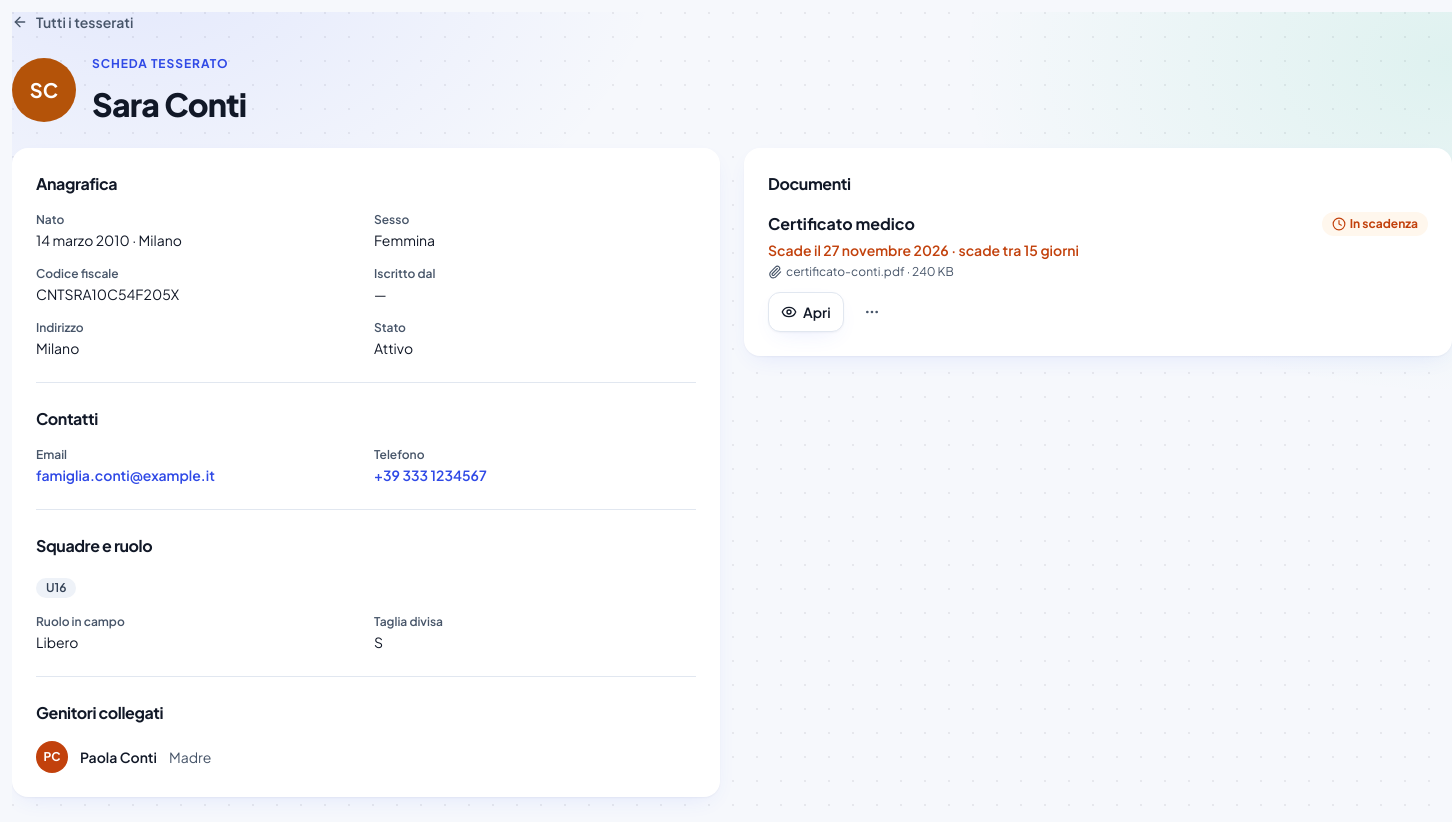
MemberDetailPage › hides every write action from an athlete but still lets them download
Click the button named "Altre azioni di Certificato medico" at (872,312), box [852,292,892,332]
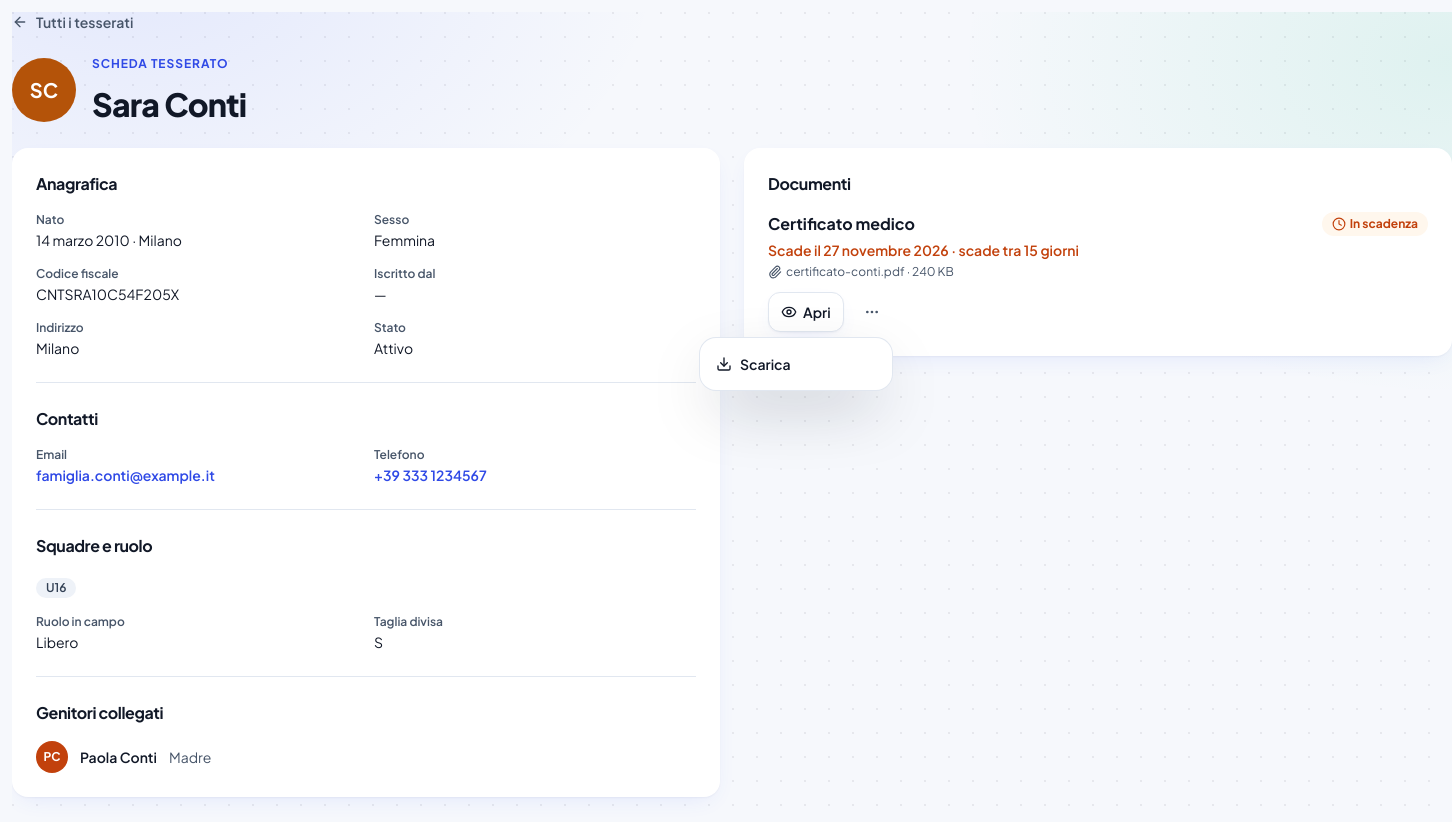
Result: the menu item with aria-label "Scarica Certificato medico" is shown at [716,355,791,373]
